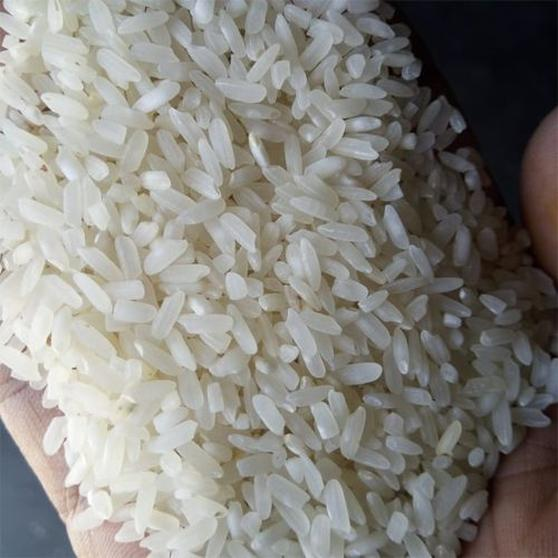rice: (65, 52, 530, 521)
